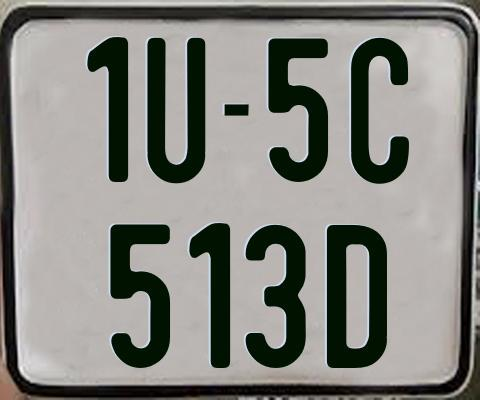1: (87, 35, 133, 185), (188, 220, 229, 368)
3: (243, 223, 307, 366)
5: (107, 223, 173, 370), (266, 35, 328, 182)
C: (351, 37, 410, 186)
D: (325, 222, 386, 366)
U: (146, 37, 204, 183)
